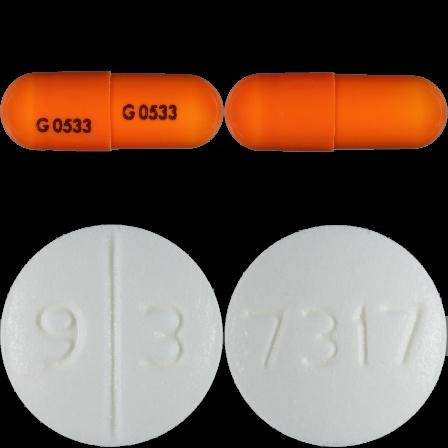0615-7548: (0, 0, 224, 224)
